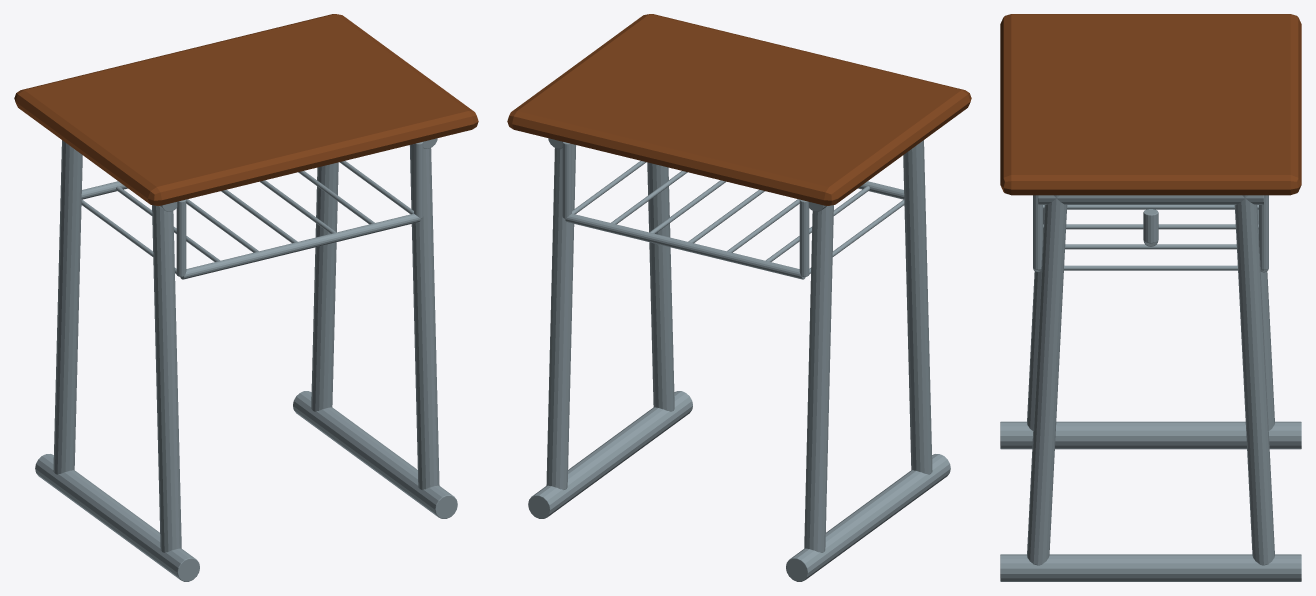
3 renders of one model, left to right at view 1: azimuth 30°, elevation 25°; view 2: azimuth 150°, elevation 25°; view 3: azimuth 270°, elevation 25°, orthographic. The views are drawn at different scales.
Parts seen in each view (by area): view 1: TOP_WritingSurface, BOOK_Basket, FRAME_Front, FRAME_Rear, FRAME_Front.001, FRAME_Rear.001, FRAME_Foot, FRAME_Foot.001; view 2: TOP_WritingSurface, BOOK_Basket, FRAME_Rear, FRAME_Front, FRAME_Rear.001, FRAME_Front.001, FRAME_Foot, FRAME_Foot.001; view 3: TOP_WritingSurface, FRAME_Front.001, FRAME_Rear.001, FRAME_Foot.001, FRAME_Foot, BOOK_Basket, FRAME_Upper.001, FRAME_Front, FRAME_Rear, BAG_HookEnd.
Boxes of the visible parts, left/top/right/bottom form: TOP_WritingSurface: left=14, top=14, right=478, bottom=205; BOOK_Basket: left=81, top=142, right=423, bottom=279; FRAME_Front: left=152, top=205, right=181, bottom=552; FRAME_Rear: left=53, top=140, right=82, bottom=474; FRAME_Front.001: left=409, top=144, right=439, bottom=489; FRAME_Rear.001: left=311, top=162, right=338, bottom=411; FRAME_Foot: left=35, top=454, right=199, bottom=581; FRAME_Foot.001: left=293, top=391, right=457, bottom=518; TOP_WritingSurface: left=507, top=14, right=971, bottom=205; BOOK_Basket: left=562, top=142, right=904, bottom=279; FRAME_Rear: left=804, top=205, right=833, bottom=552; FRAME_Front: left=903, top=140, right=932, bottom=474; FRAME_Rear.001: left=546, top=144, right=576, bottom=489; FRAME_Front.001: left=647, top=162, right=674, bottom=411; FRAME_Foot: left=786, top=454, right=950, bottom=581; FRAME_Foot.001: left=528, top=391, right=692, bottom=518; TOP_WritingSurface: left=1000, top=14, right=1301, bottom=195; FRAME_Front.001: left=1027, top=195, right=1067, bottom=565; FRAME_Rear.001: left=1234, top=195, right=1274, bottom=565; FRAME_Foot.001: left=1000, top=554, right=1301, bottom=581; FRAME_Foot: left=1000, top=421, right=1301, bottom=449; BOOK_Basket: left=1033, top=195, right=1268, bottom=272; FRAME_Upper.001: left=1038, top=195, right=1263, bottom=204; FRAME_Front: left=1027, top=209, right=1044, bottom=430; FRAME_Rear: left=1257, top=209, right=1274, bottom=430; BAG_HookEnd: left=1143, top=209, right=1158, bottom=243.
Size of the model in its own units: 0.672 by 0.7375 by 0.48.
